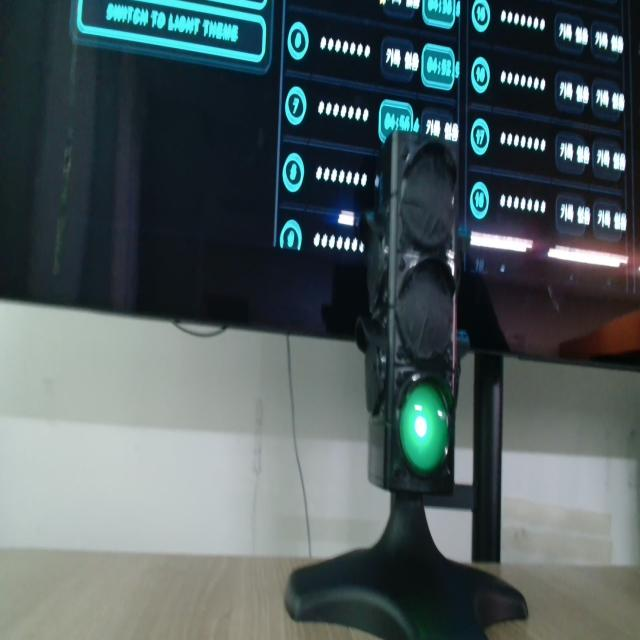green_light: (400, 384, 448, 474)
